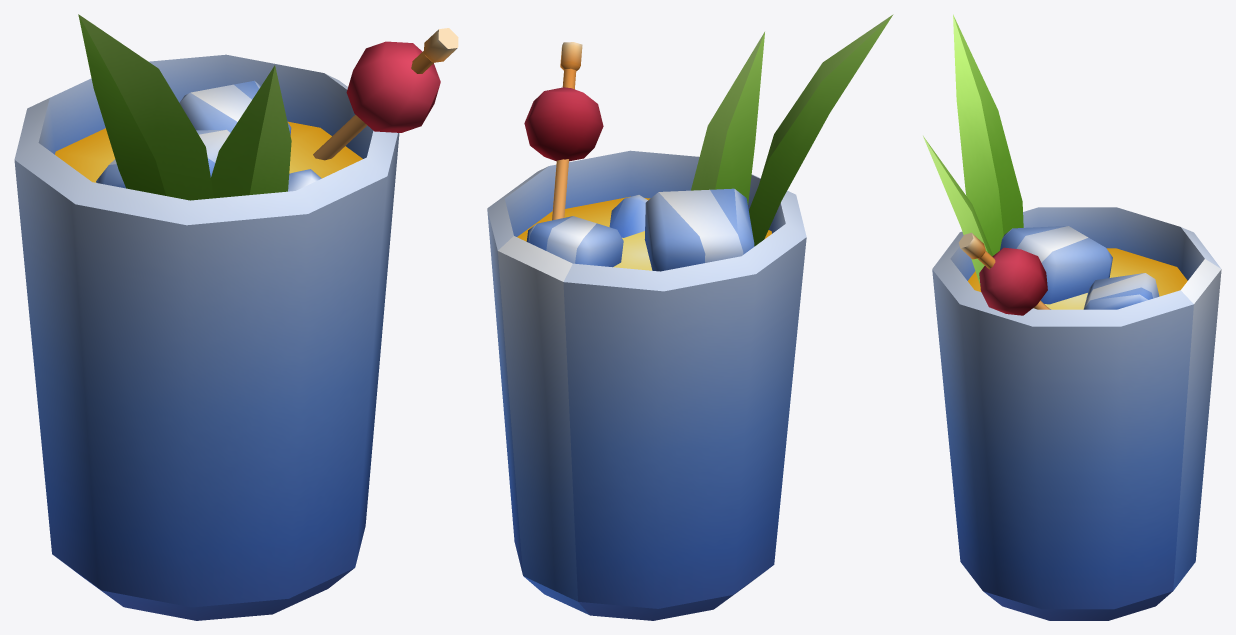
File: m_Cocktail01.fbx
3 views of the same model, side by side, from view 1: azimuth 30°, elevation 25°; view 2: azimuth 150°, elevation 25°; view 3: azimuth 270°, elevation 25° (orthographic). The views are drawn at different scales.
Parts seen in each view (by area): view 1: m_Cocktail01; view 2: m_Cocktail01; view 3: m_Cocktail01.
Boxes of the visible parts, <box> form: m_Cocktail01: <box>14,14,458,620</box>; m_Cocktail01: <box>487,14,893,620</box>; m_Cocktail01: <box>923,14,1221,620</box>.
Bounding box in the file's own units: 15.04 × 24.29 × 13.42.
